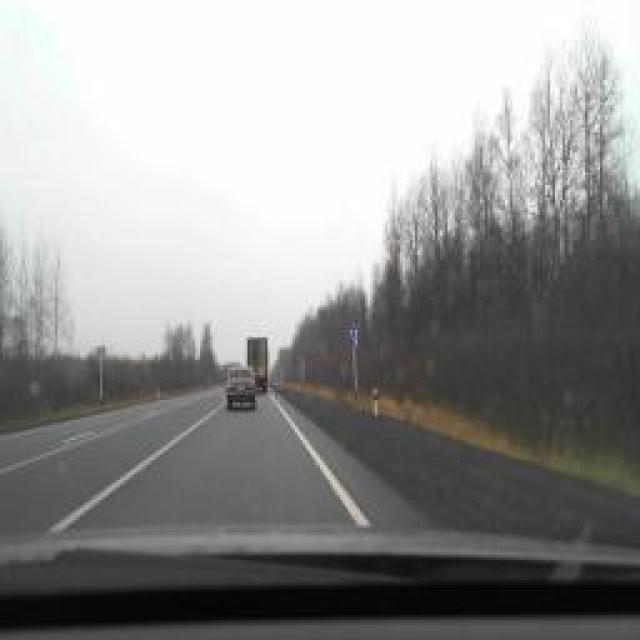sign: (348, 324, 360, 346)
